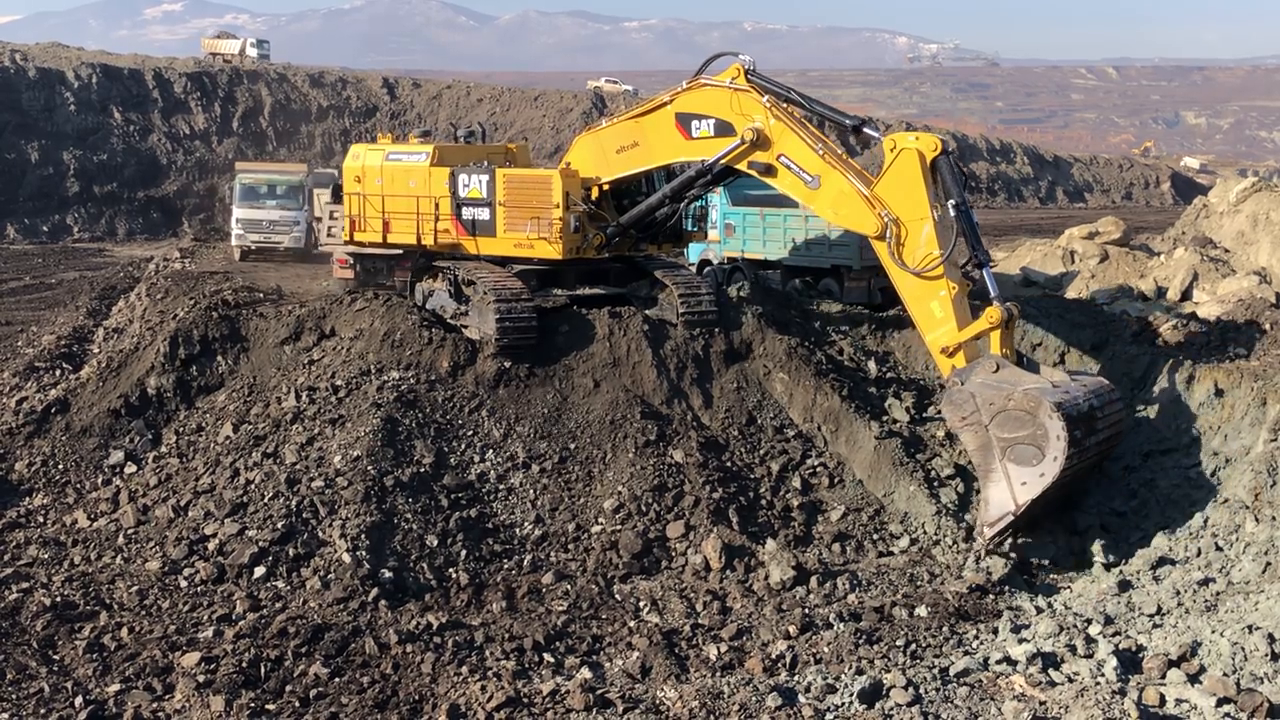empty: (932, 344, 1132, 562)
